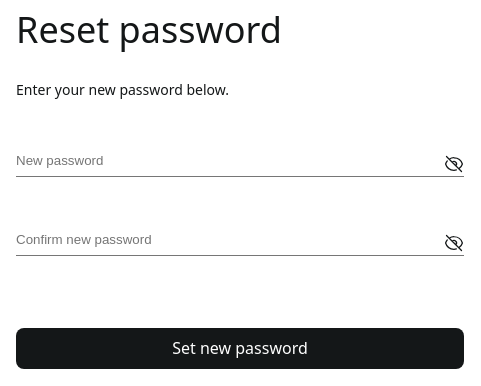
Test: Feature: ResetPasswordPage › shows validation error when submitting empty form
This screenshot has width=481, height=386.
Click the button "Set new password".
click(240, 348)  # box [16,328,464,369]
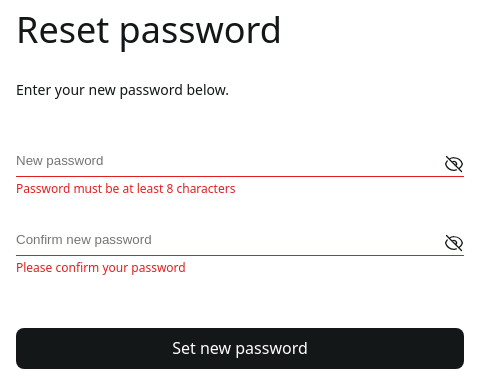
Result: the text "Password must be at least 8 characters" is shown at [16,180,235,197]
